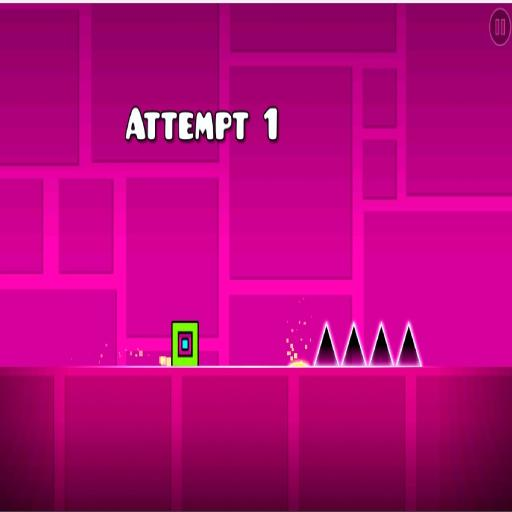player: (171, 322, 198, 365)
spike: (396, 323, 421, 366), (370, 323, 393, 366), (314, 324, 338, 365), (342, 324, 366, 365)
